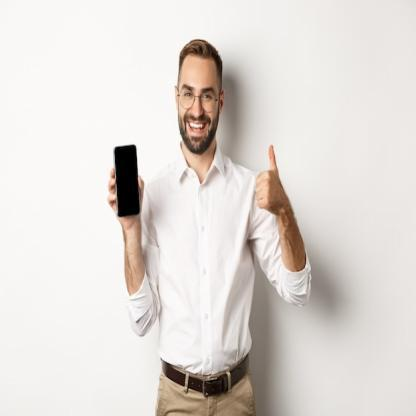thumb_up: (252, 142, 284, 216)
